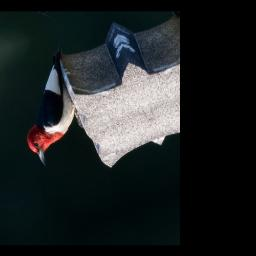Woodpecker: (0, 40, 106, 172)
